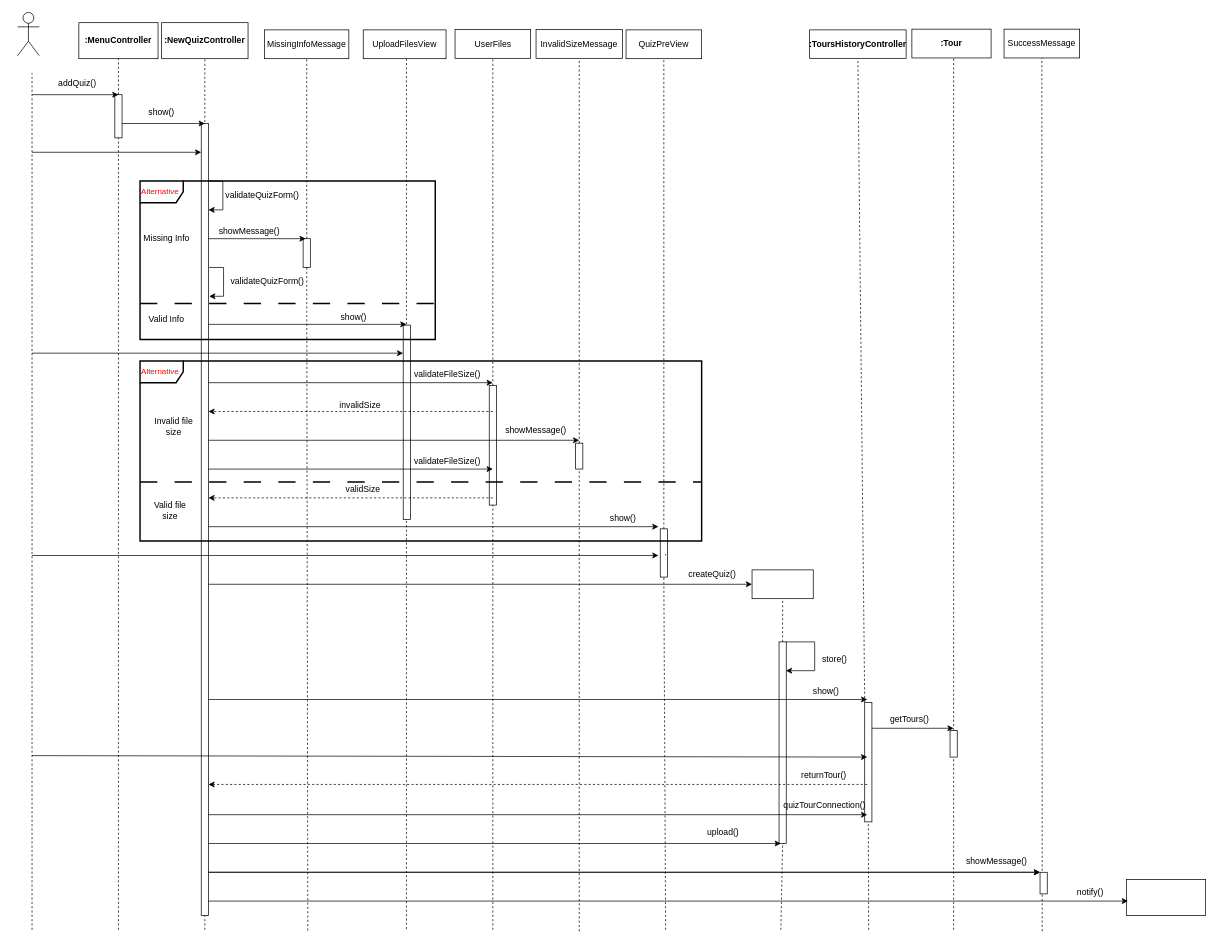
Image size: 1218x945. Some labels were removed from this diagram. Here are the shapes that lost their labels. From the top down, the centre of each, then its label:
pixel 28 34: Ξεναγός
pixel 782 584: New:Quiz
pixel 1166 897: :Simple User
